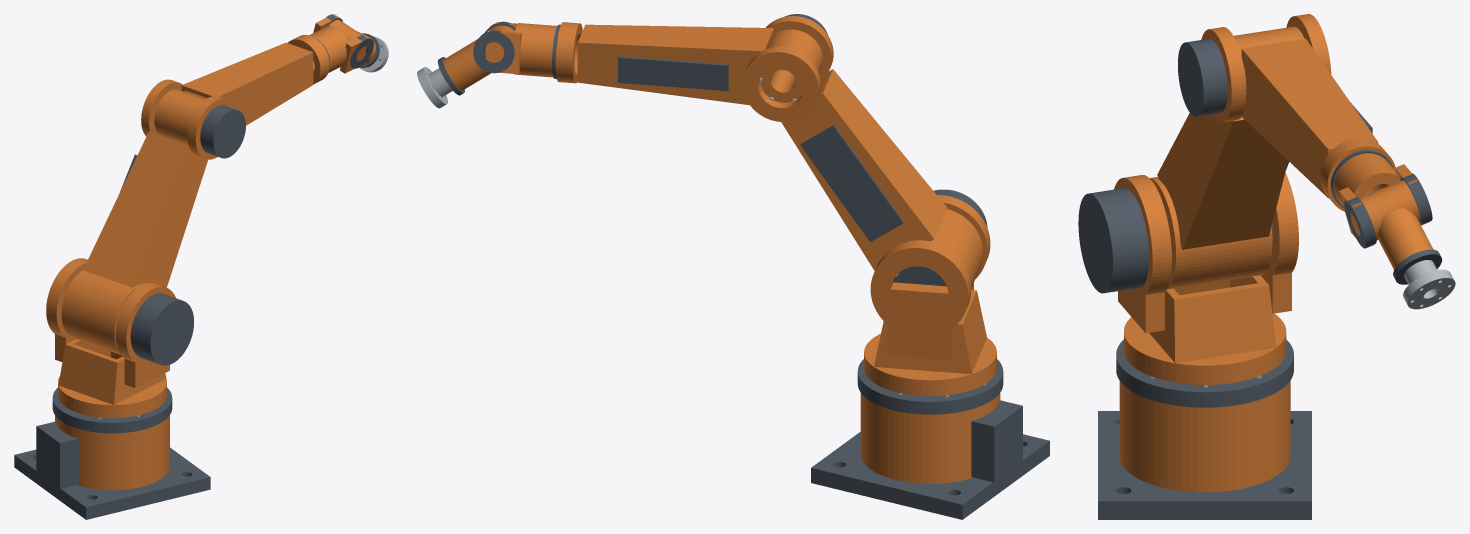
The model's file is robot-arm.glb.
The picture shows the model from 3 angles, left to right: view 1: azimuth 30°, elevation 25°; view 2: azimuth 150°, elevation 25°; view 3: azimuth 270°, elevation 25°; orthographic projection. The views are drawn at different scales.
Parts seen in each view (by area): view 1: link_2_upper_arm_hollow_shell, link_3_forearm_hollow_shell, link_0_base_pedestal, link_0_mount_plate_4x18, link_2_shoulder_hub, link_1_axis2_motor_cover, link_1_turret_body, link_0_base_motor_cover, link_1_turntable, link_0_base_bearing_seat, link_3_elbow_motor_cover, link_3_elbow_rotating_hub (+9 smaller); view 2: link_2_upper_arm_hollow_shell, link_3_forearm_hollow_shell, link_0_base_pedestal, link_0_mount_plate_4x18, link_1_shoulder_support_1, link_2_upper_arm_service_panel, link_1_shoulder_stationary_bearing_1, link_1_turntable, link_0_base_motor_cover, link_2_elbow_fork_44, link_1_turret_body, link_3_forearm_inspection_panel (+11 smaller); view 3: link_0_base_pedestal, link_2_upper_arm_hollow_shell, link_3_forearm_hollow_shell, link_0_mount_plate_4x18, link_1_turret_body, link_1_axis2_motor_cover, link_1_turntable, link_2_shoulder_hub, link_0_base_bearing_seat, link_3_elbow_motor_cover, link_1_shoulder_stationary_bearing_-1, link_1_shoulder_stationary_bearing_1 (+14 smaller).
Part boxes in pixels (x1,y1,x2,y2): link_2_upper_arm_hollow_shell: (83,131,207,287); link_3_forearm_hollow_shell: (181,42,313,125); link_0_base_pedestal: (55,415,169,490); link_0_mount_plate_4x18: (14,447,210,519); link_2_shoulder_hub: (61,270,144,354); link_1_axis2_motor_cover: (130,293,193,365); link_1_turret_body: (58,339,166,404); link_0_base_motor_cover: (36,421,78,488); link_1_turntable: (58,376,166,418); link_0_base_bearing_seat: (52,388,172,433); link_3_elbow_motor_cover: (200,105,245,158); link_3_elbow_rotating_hub: (154,89,204,145); link_2_upper_arm_hollow_shell: (781,69,947,270); link_3_forearm_hollow_shell: (577,24,773,105); link_0_base_pedestal: (860,393,1000,483); link_0_mount_plate_4x18: (811,432,1049,519); link_1_shoulder_support_1: (887,282,954,360); link_2_upper_arm_service_panel: (800,125,903,242); link_1_shoulder_stationary_bearing_1: (870,241,971,336); link_1_turntable: (864,333,996,395); link_0_base_motor_cover: (971,400,1022,482); link_2_elbow_fork_44: (743,47,820,121); link_1_turret_body: (874,290,986,373); link_3_forearm_inspection_panel: (618,56,728,91); link_0_base_pedestal: (1119,381,1290,492); link_2_upper_arm_hollow_shell: (1157,113,1287,249); link_3_forearm_hollow_shell: (1241,38,1378,198); link_0_mount_plate_4x18: (1098,411,1311,519); link_1_turret_body: (1149,275,1276,363); link_1_axis2_motor_cover: (1078,188,1148,293); link_1_turntable: (1124,313,1286,384); link_2_shoulder_hub: (1150,177,1272,289); link_0_base_bearing_seat: (1116,339,1293,407); link_3_elbow_motor_cover: (1178,38,1227,116); link_1_shoulder_stationary_bearing_-1: (1114,175,1171,297); link_1_shoulder_stationary_bearing_1: (1262,172,1298,278).
Size of the model in its own units: 0.8255 by 0.6699 by 0.4407.
